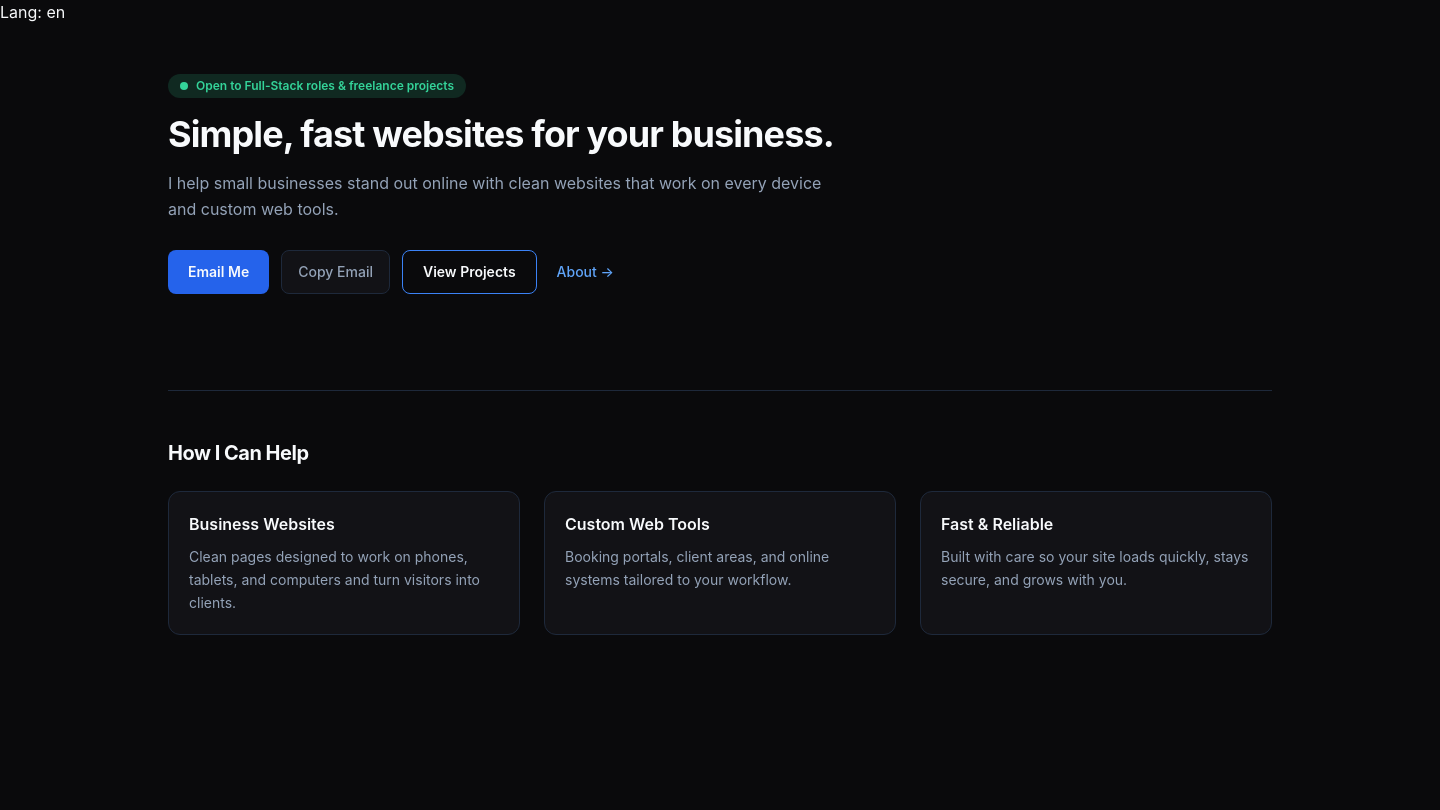
Home › opens interactive email modal, switches templates, and builds mailto/Gmail links
The width and height of the screenshot is (1440, 810).
Click the button "Email Me".
click(219, 272)  # box [168, 250, 269, 294]
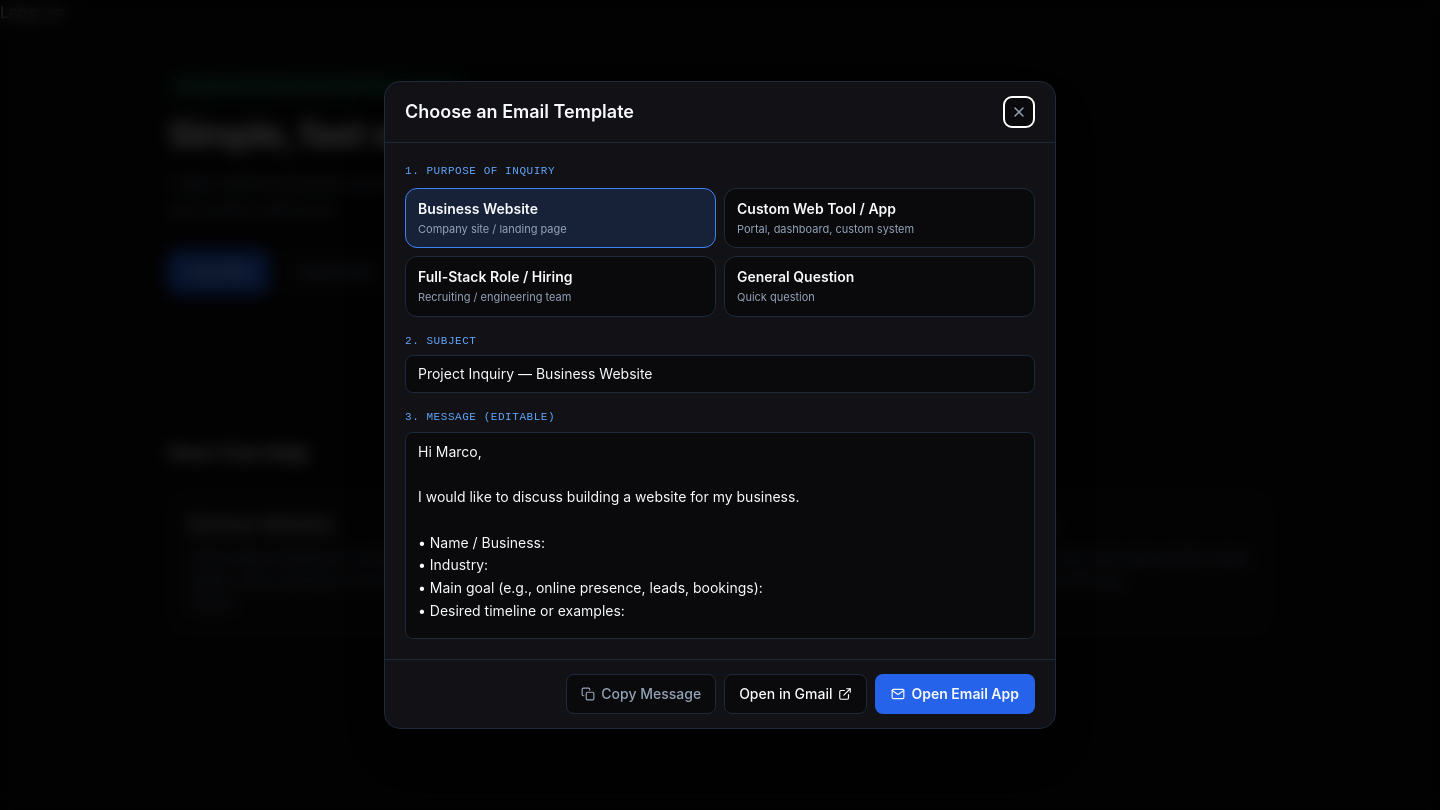
Now the heading "Choose an Email Template" is shown, box [405, 98, 634, 126]
Now the field labelled "2. Subject" holds "Project Inquiry — Business Website", box [405, 355, 1035, 393]
Click the button "Custom Web Tool / App Portal, dashboard, custom system".
click(880, 218)  # box [724, 188, 1035, 248]
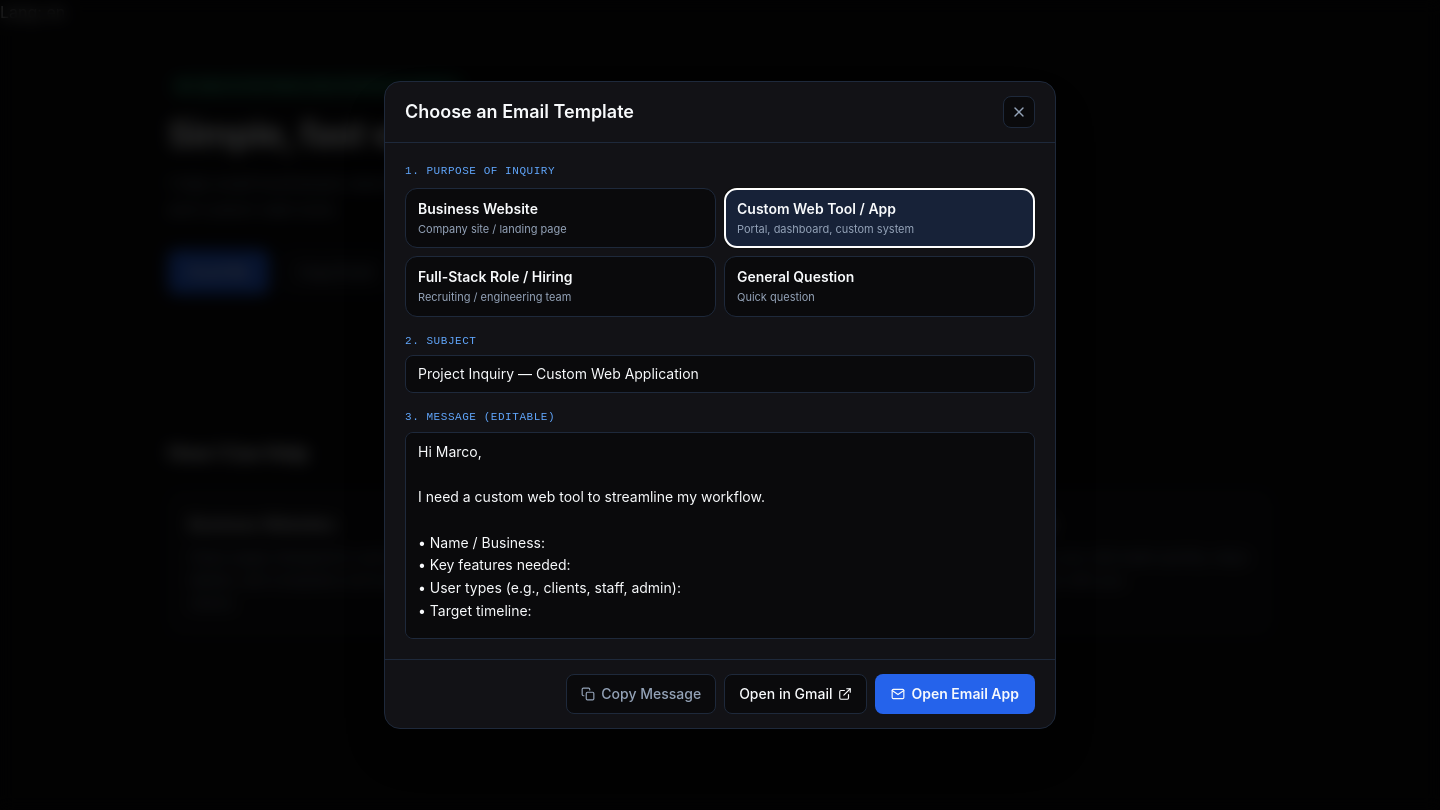
Now the field labelled "2. Subject" holds "Project Inquiry — Custom Web Application", box [405, 355, 1035, 393]
// Clicking Open Email App transitions to Step 2 while preserving the draft
Click the link "Open Email App".
click(955, 694)  # box [876, 674, 1035, 714]
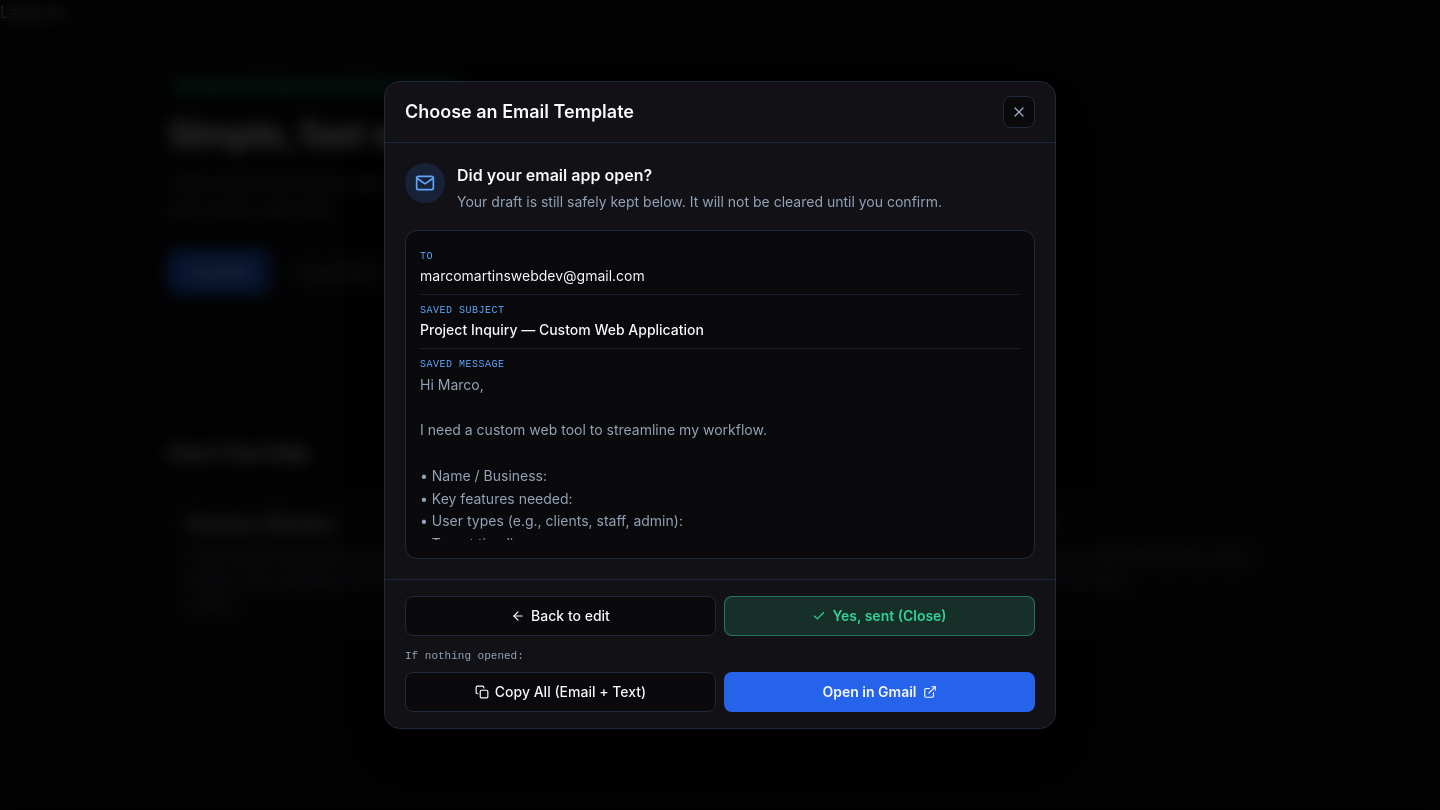
Now the heading "Did your email app open?" is shown, box [457, 165, 652, 185]
Now the text "Project Inquiry — Custom Web Application" is shown, box [420, 321, 704, 338]
// Back to edit restores Step 1 with the selected template intact
Click the button "Back to edit".
click(560, 616)  # box [405, 596, 716, 636]
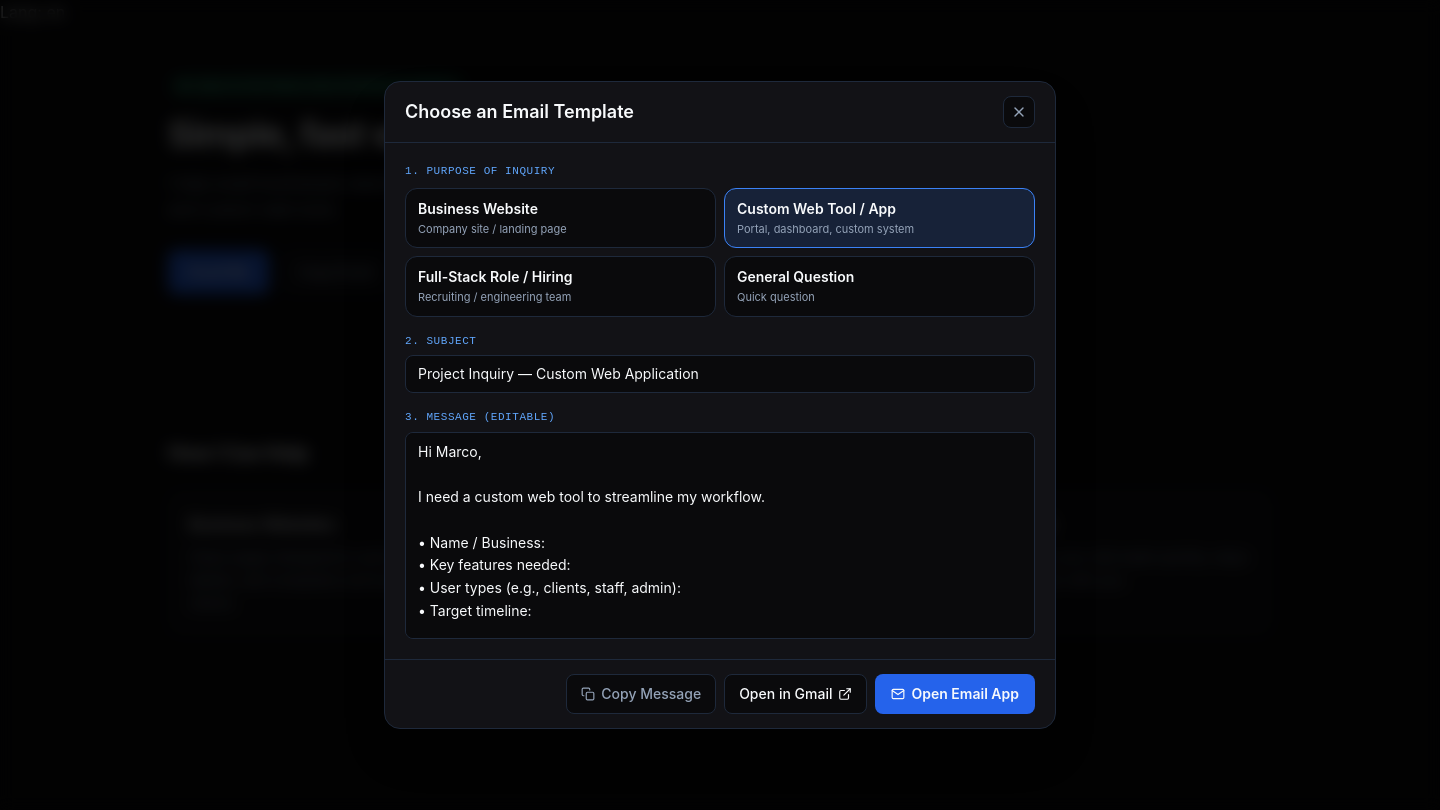
Now the field labelled "2. Subject" holds "Project Inquiry — Custom Web Application", box [405, 355, 1035, 393]
// Triggering Step 2 and confirming Sent closes the modal
Click the link "Open Email App".
click(955, 694)  # box [876, 674, 1035, 714]
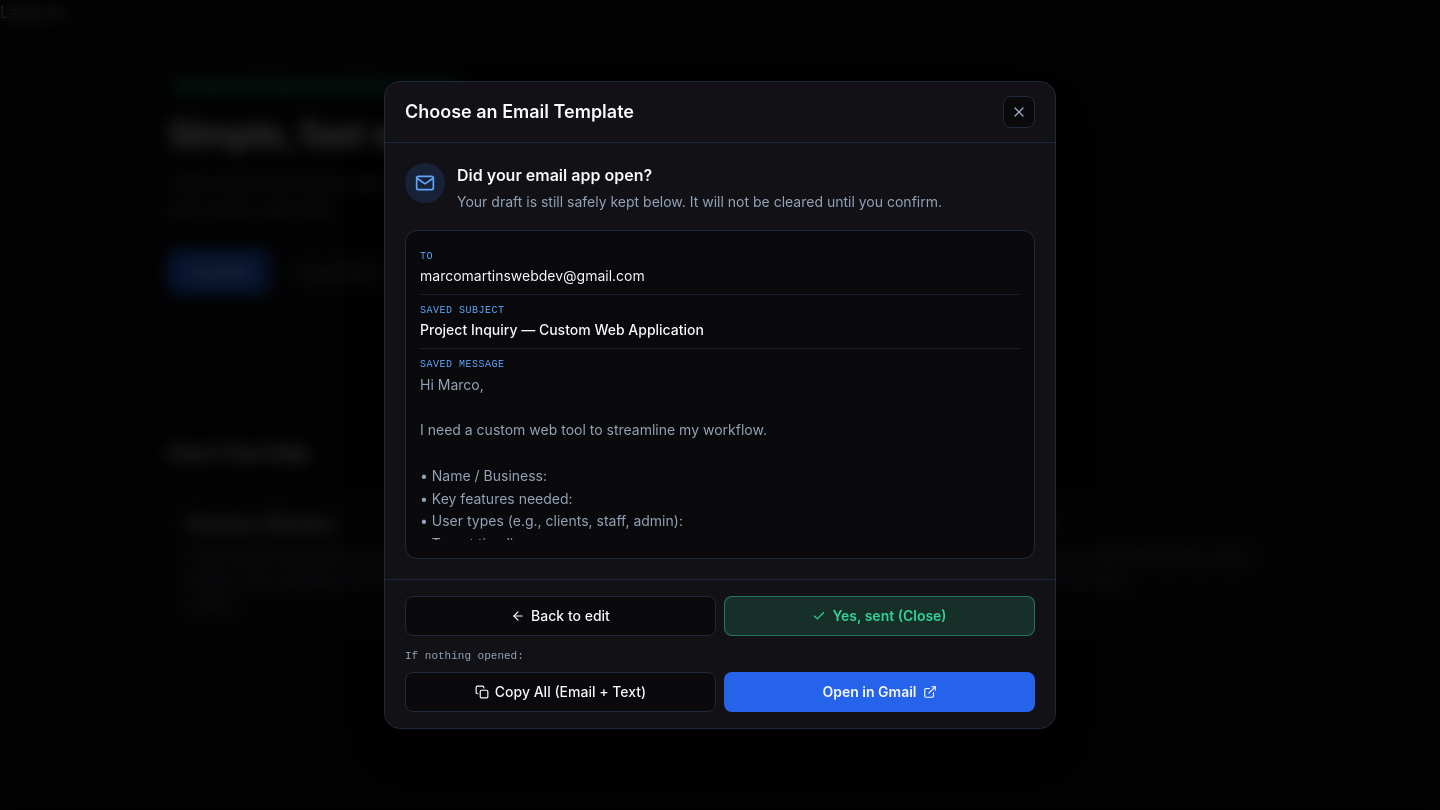
Click the button "Yes, sent (Close)".
click(880, 616)  # box [724, 596, 1035, 636]
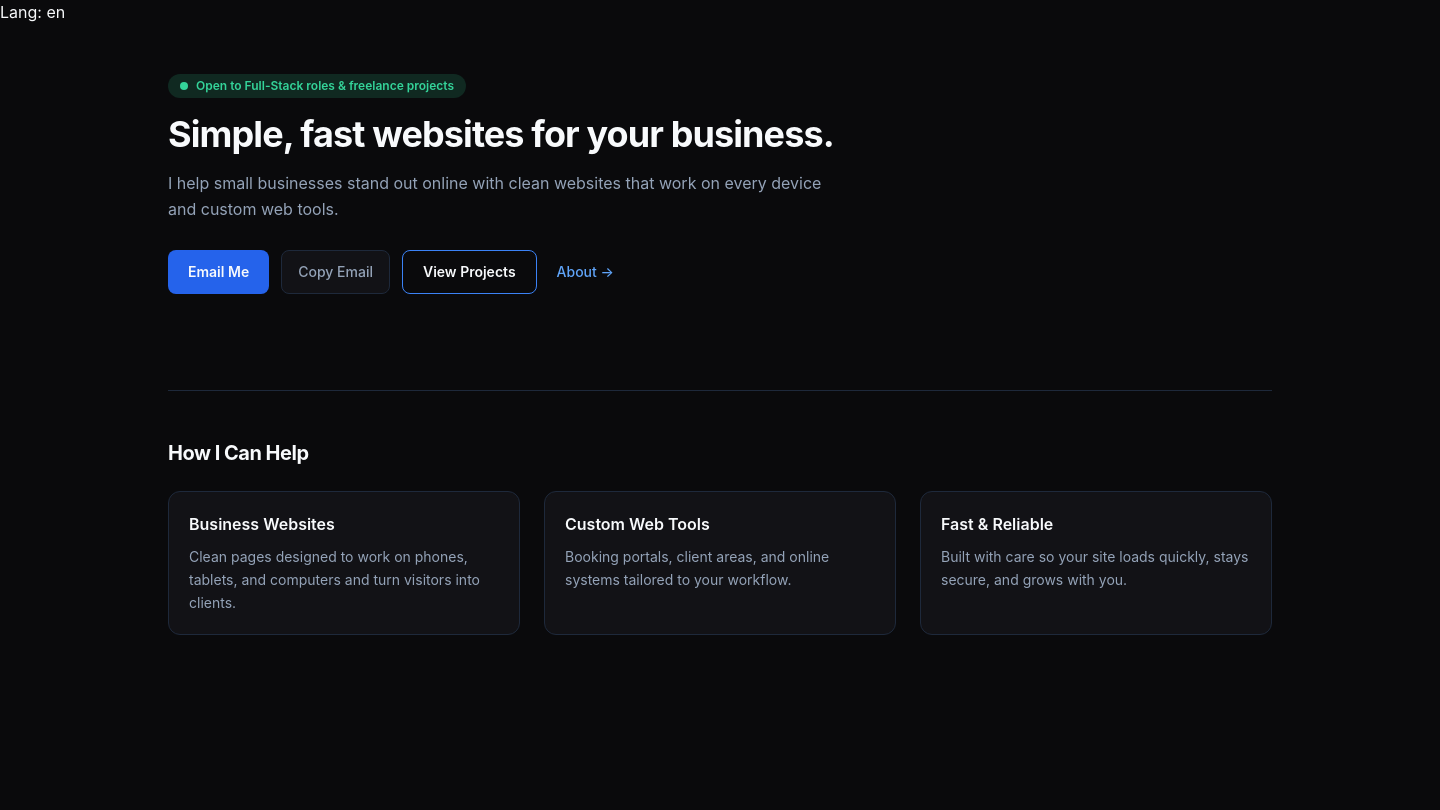
Now the heading "Choose an Email Template" is gone
